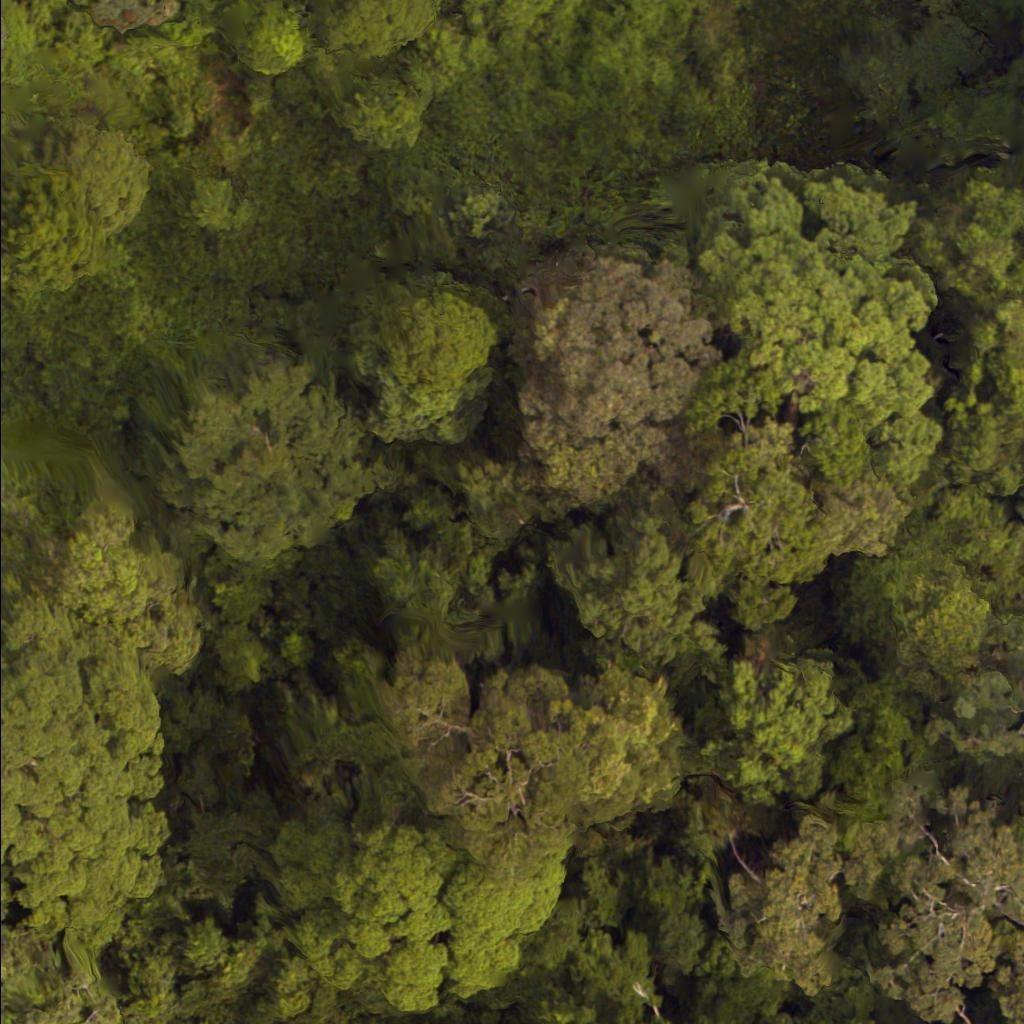crown: (678, 162, 953, 544), (270, 797, 581, 1013), (393, 663, 686, 889), (521, 255, 740, 482), (186, 372, 389, 551), (342, 280, 492, 433), (0, 938, 141, 1023)
